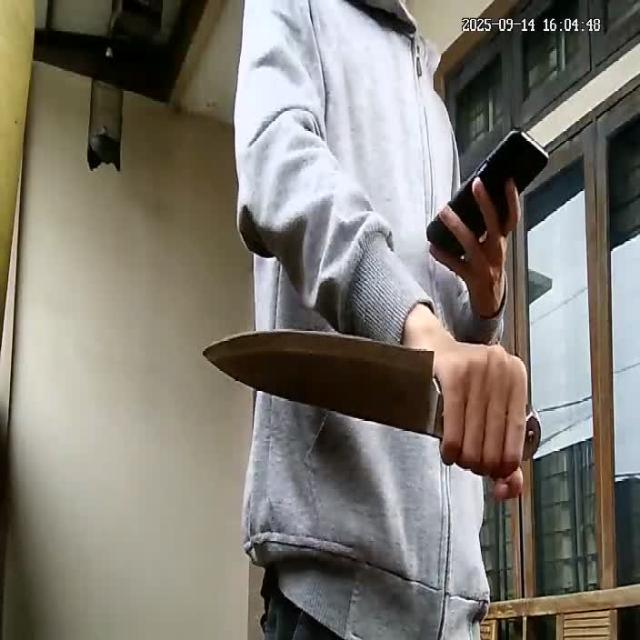senjata_tajam: (202, 327, 442, 444)
